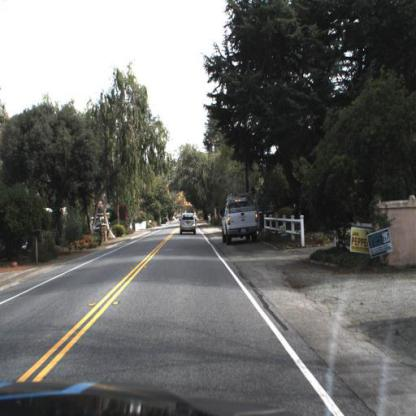car: (221, 198, 259, 240), (178, 213, 198, 236)
